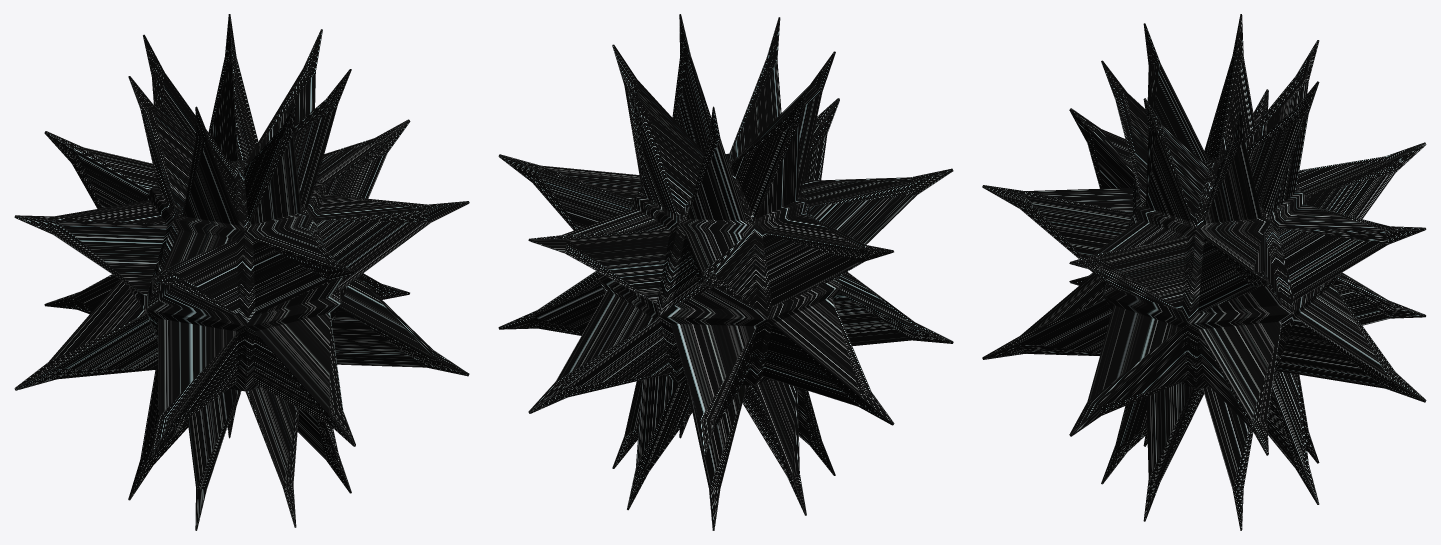
File: virus3Metal.fbx
3 views of the same model, side by side, from view 1: azimuth 30°, elevation 25°; view 2: azimuth 150°, elevation 25°; view 3: azimuth 270°, elevation 25° (orthographic).
Visible parts, largest first — view 1: Sphere; view 2: Sphere; view 3: Sphere.
Part boxes in pixels (x1=…): Sphere: x1=14, y1=14, x2=469, y2=530; Sphere: x1=498, y1=14, x2=953, y2=530; Sphere: x1=982, y1=14, x2=1426, y2=530.
Bounding box in the file's own units: 365 × 375 × 356.
1 material, 1 textured.
